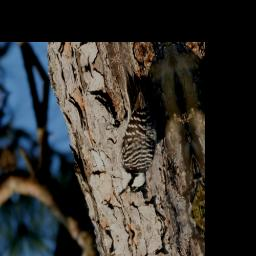Woodpecker: (93, 62, 169, 199)
